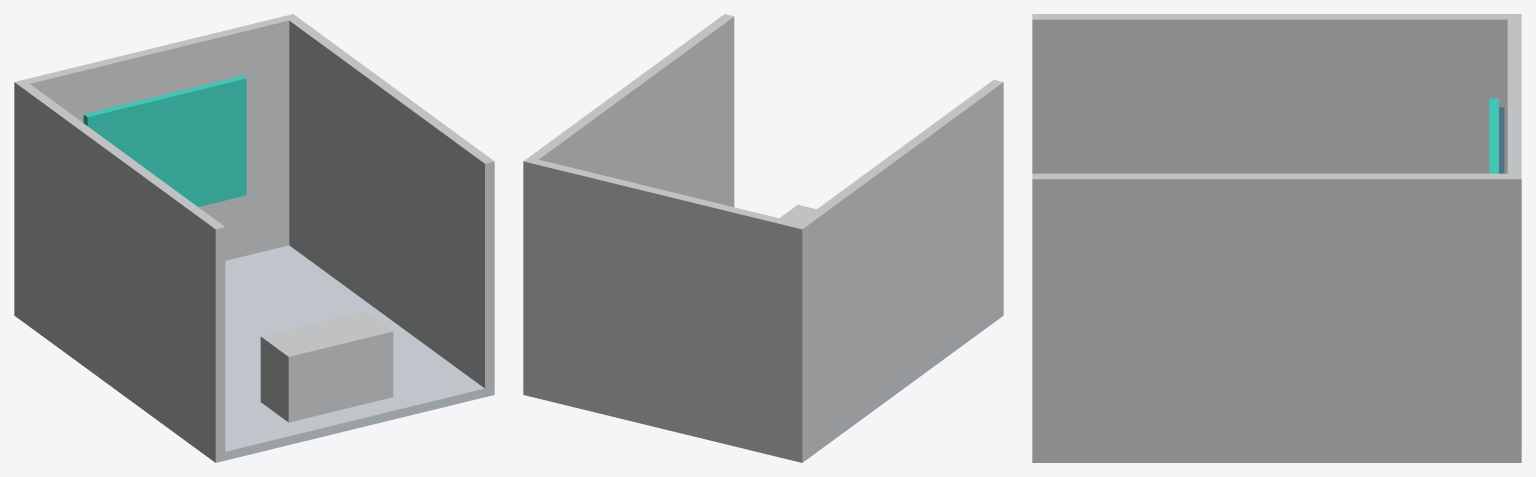
The picture shows the model from 3 angles, left to right: view 1: azimuth 30°, elevation 25°; view 2: azimuth 150°, elevation 25°; view 3: azimuth 270°, elevation 25°; orthographic projection. The views are drawn at different scales.
Visible parts, largest first — view 1: Exhibition Booth Concept; view 2: Exhibition Booth Concept; view 3: Exhibition Booth Concept.
Boxes of the visible parts, x1,y1,x2,y2 form: Exhibition Booth Concept: [14, 14, 494, 462]; Exhibition Booth Concept: [523, 14, 1003, 462]; Exhibition Booth Concept: [1032, 14, 1521, 462].
Size of the model in its own units: 4 by 3.2 by 5.
